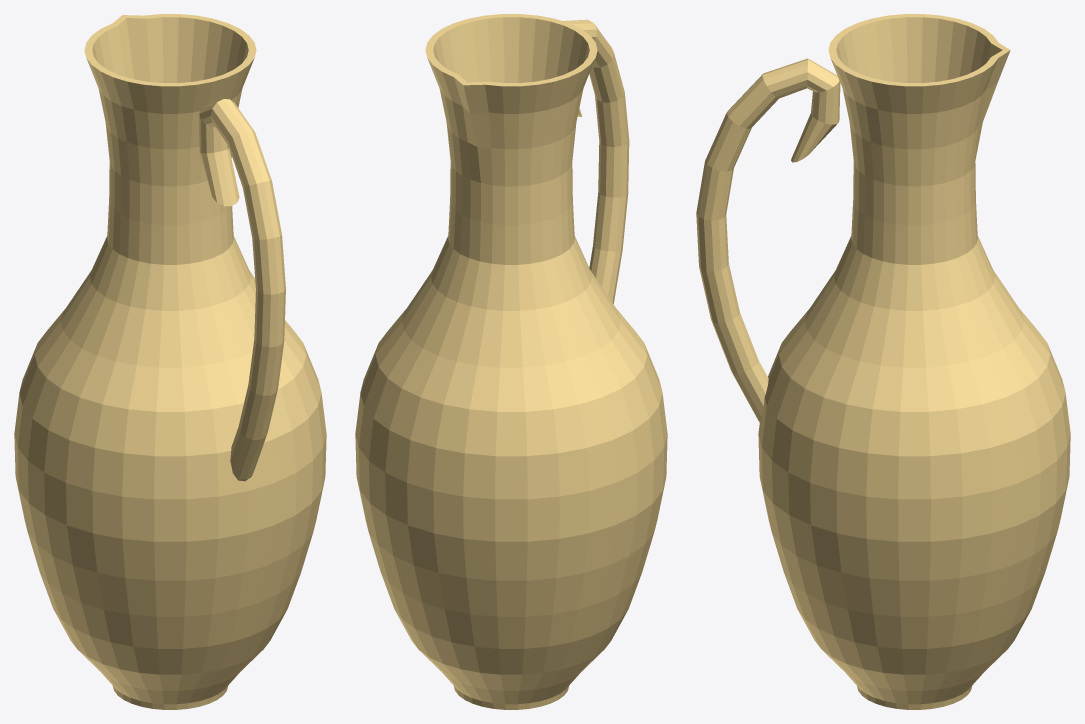
Rendered from ornementa.fbx.
The picture shows the model from 3 angles, left to right: view 1: azimuth 30°, elevation 25°; view 2: azimuth 150°, elevation 25°; view 3: azimuth 270°, elevation 25°; orthographic projection.
Visible parts, largest first — view 1: Sphere.001; view 2: Sphere.001; view 3: Sphere.001.
Boxes of the visible parts, box(x1,y1,x2,y2) form: Sphere.001: box(14, 14, 326, 709); Sphere.001: box(355, 14, 667, 709); Sphere.001: box(696, 14, 1070, 709).
Bounding box in the file's own units: 155 × 128 × 290.
1 material, 1 textured.
